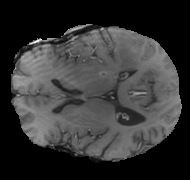Edema: (58, 32, 162, 97)
EnhancingTumors: (94, 33, 150, 62)
Necrosis: (96, 36, 147, 63)
